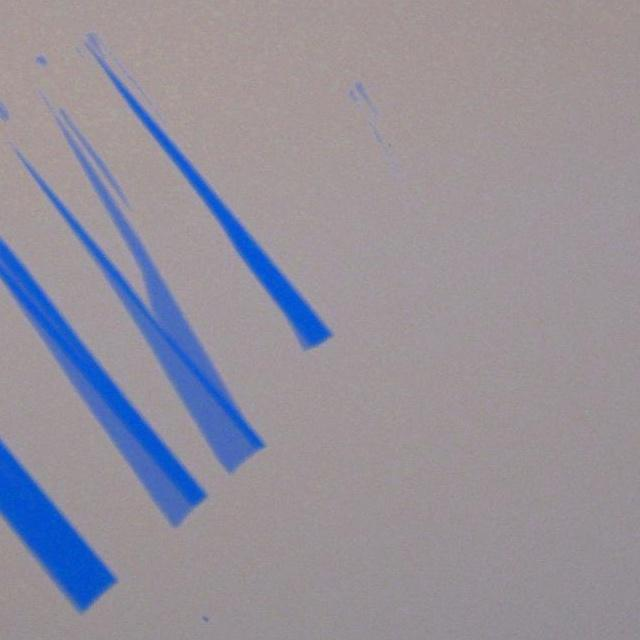monolayer-eWW4: (0, 307, 193, 640), (56, 115, 236, 407), (91, 258, 250, 476)
